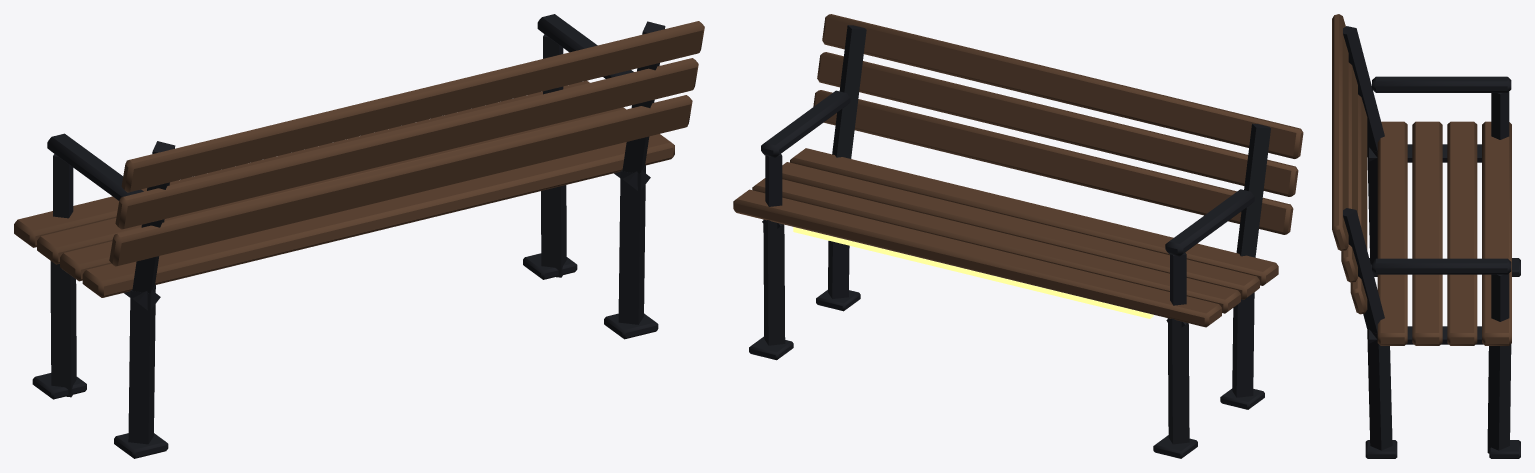
The model's file is seat_bench_v2.glb.
3 views of the same model, side by side, from view 1: azimuth 30°, elevation 25°; view 2: azimuth 150°, elevation 25°; view 3: azimuth 270°, elevation 25° (orthographic). The views are drawn at different scales.
Parts seen in each view (by area): view 1: body; view 2: body, lights; view 3: body.
Boxes of the visible parts, <box> form: body: <box>14,14,704,458</box>; body: <box>733,14,1303,458</box>; lights: <box>793,227,1153,318</box>; body: <box>1332,14,1520,458</box>.
Size of the model in its own units: 1.6 by 0.8482 by 0.5963.
